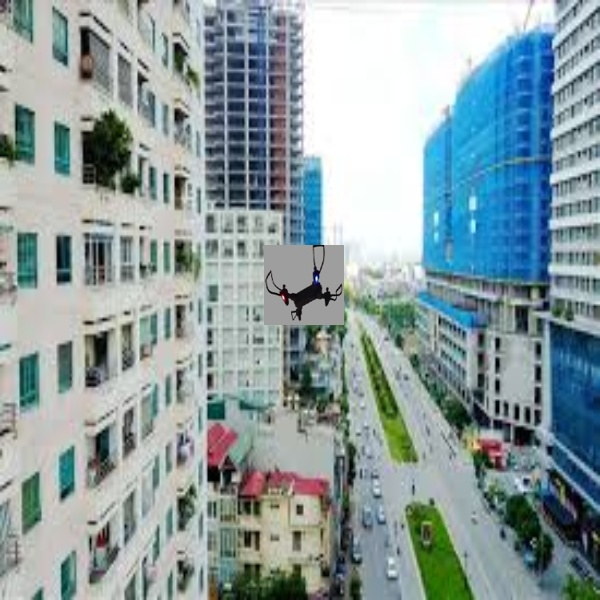drone: (264, 239, 347, 324)
